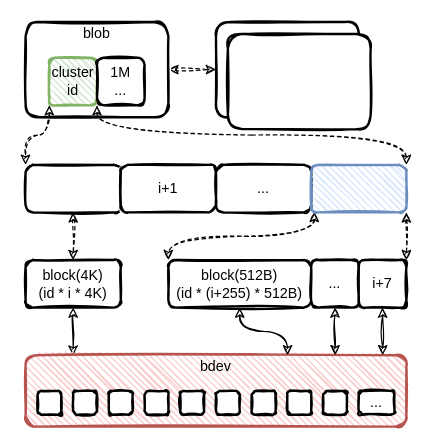
This 432x447 diagram has some shape labels left out. The centre of each missing label's shape, as x and y in pixels:
blobs: (298,81)
i+255: (358,188)
page(4K) i: (72,188)
